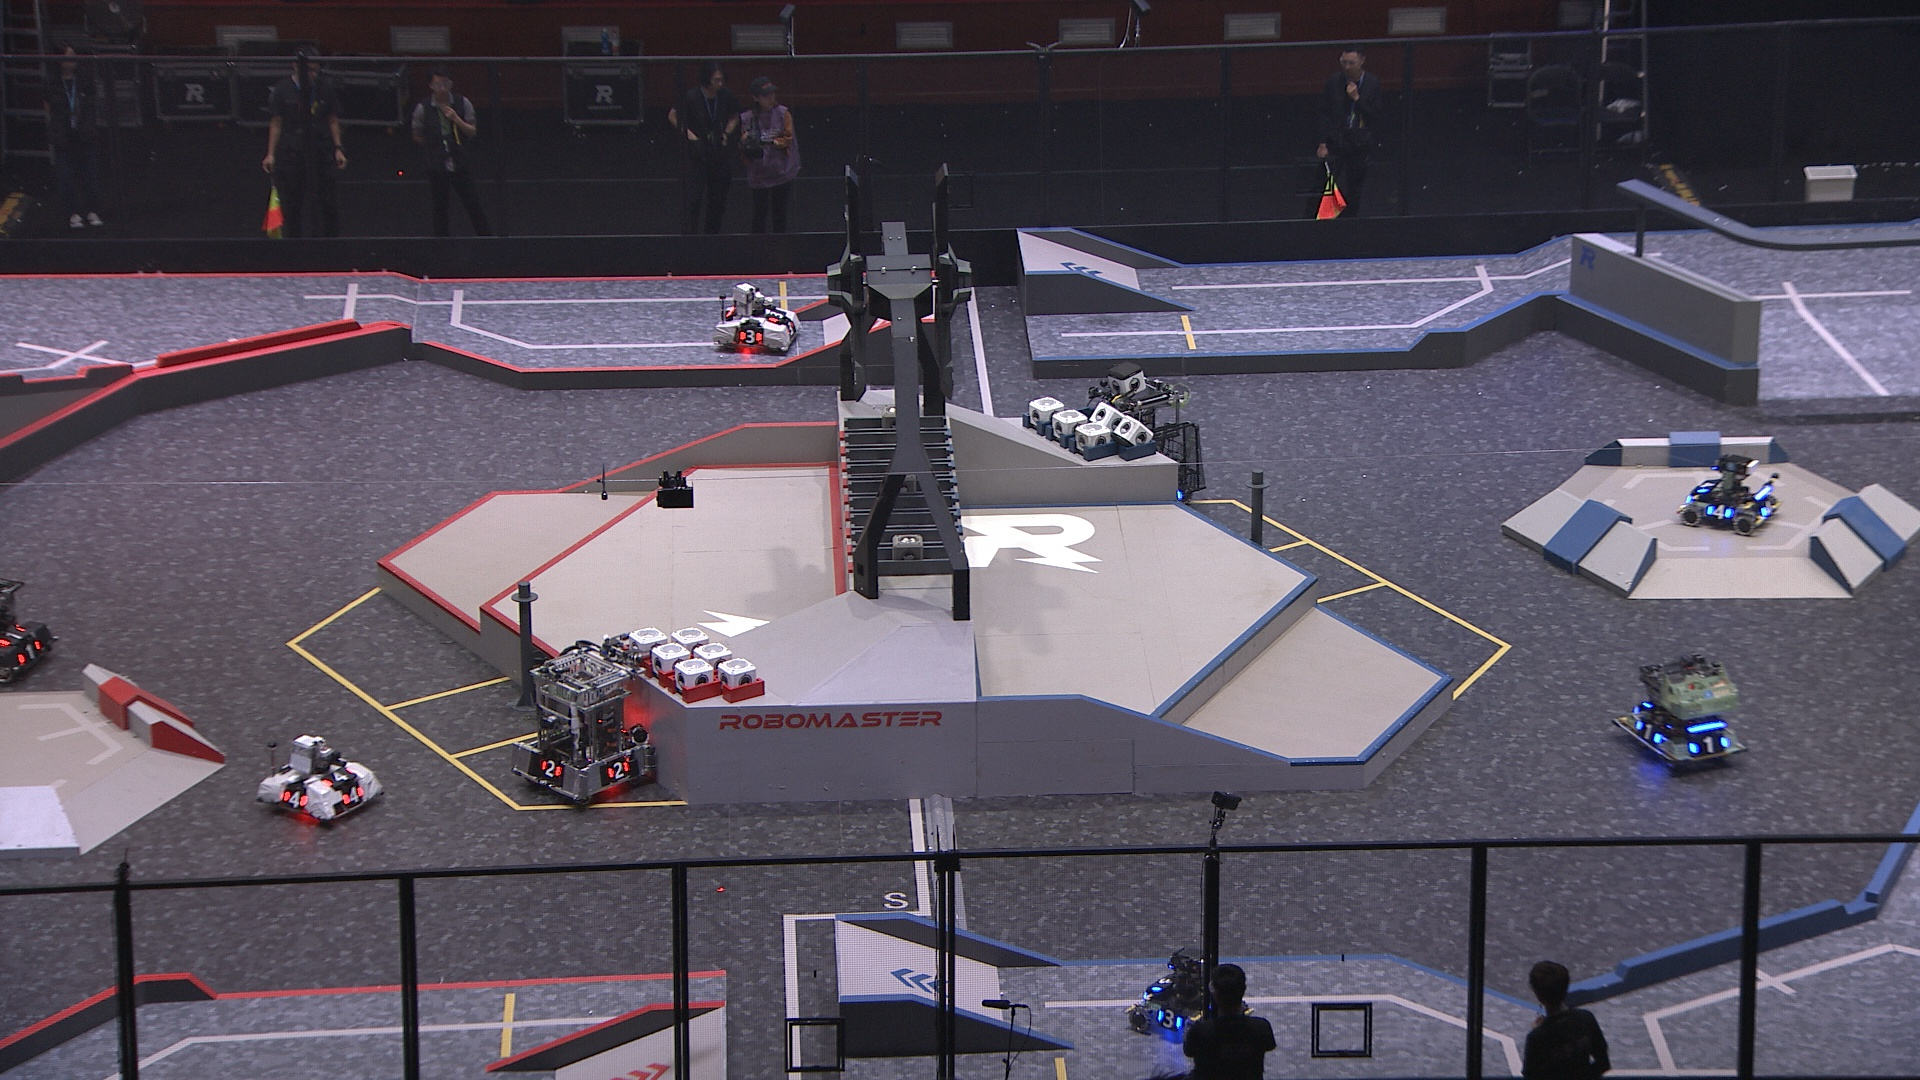armor: (1688, 735, 1731, 756), (13, 637, 41, 669), (1633, 721, 1665, 745), (1155, 1007, 1185, 1033), (320, 769, 357, 789), (280, 789, 310, 811), (1706, 501, 1735, 524), (340, 785, 367, 807), (538, 760, 566, 781), (607, 760, 632, 782), (1149, 975, 1176, 994), (0, 626, 25, 647), (738, 328, 764, 345), (1697, 477, 1720, 495), (1756, 498, 1775, 518), (766, 309, 789, 323), (783, 320, 798, 338)
car: (514, 641, 651, 808), (1609, 655, 1749, 770), (1087, 376, 1207, 509), (1126, 948, 1255, 1048), (256, 736, 385, 825), (1673, 454, 1778, 533), (711, 284, 802, 357)
